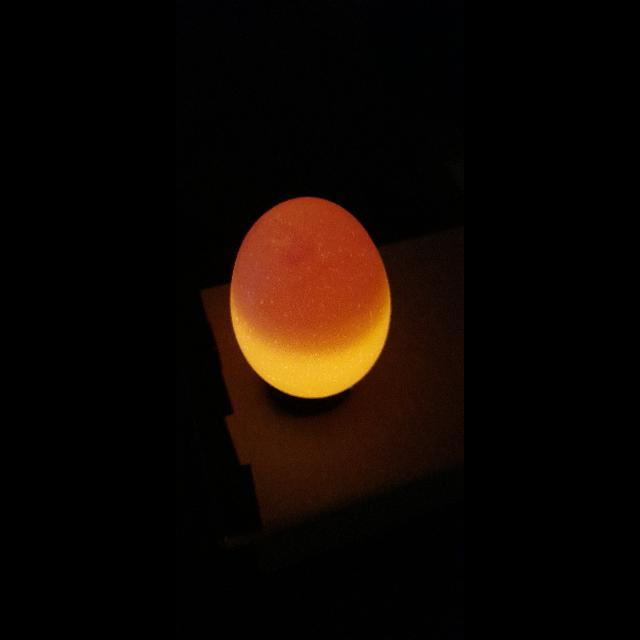Fertile: (225, 188, 392, 398)
